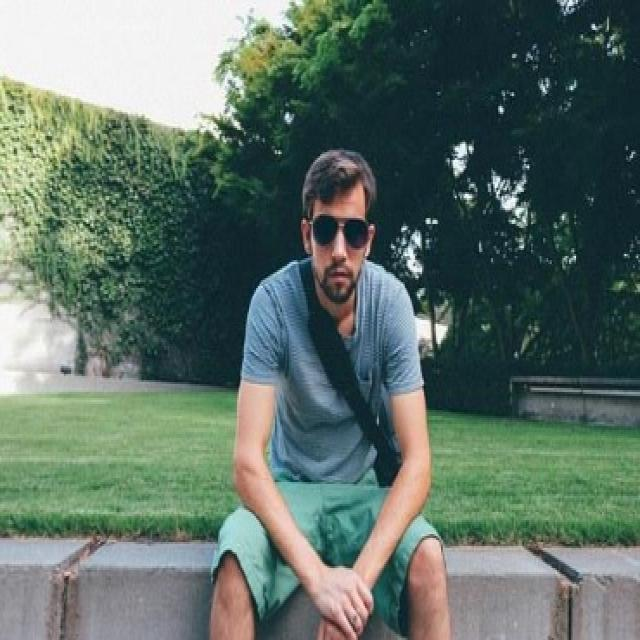adult: (205, 137, 462, 640)
